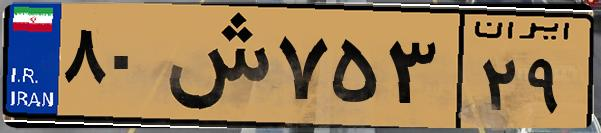0: (110, 28, 158, 98)
2: (475, 38, 525, 113)
3: (385, 28, 445, 110)
5: (330, 28, 385, 110)
7: (270, 28, 330, 110)
8: (57, 26, 110, 100)
9: (525, 38, 570, 115)
ش: (158, 12, 270, 120)
